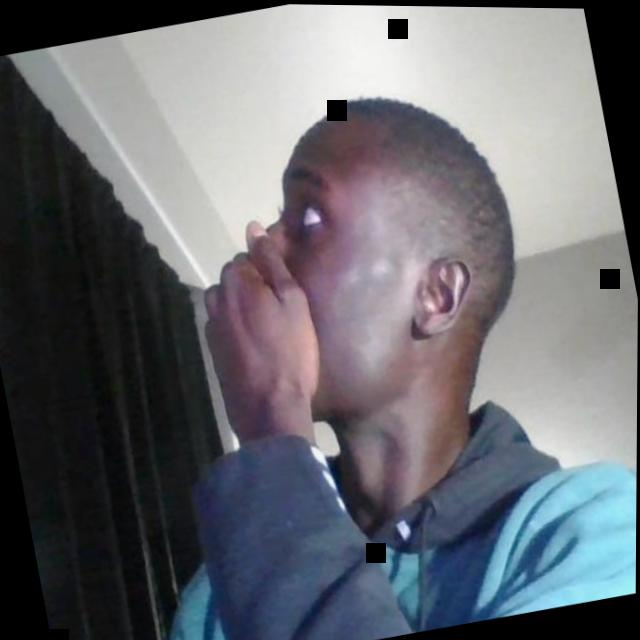NO-Mask: (238, 127, 445, 434)
